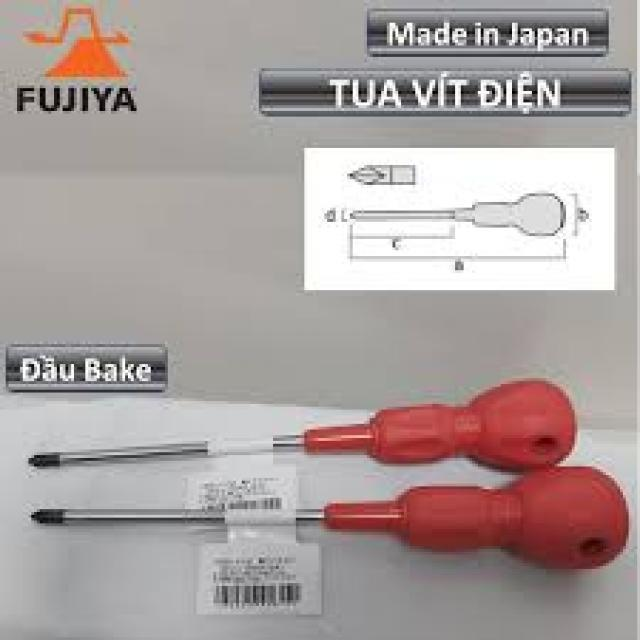screwdriver: (27, 462, 633, 570), (26, 374, 580, 474)
